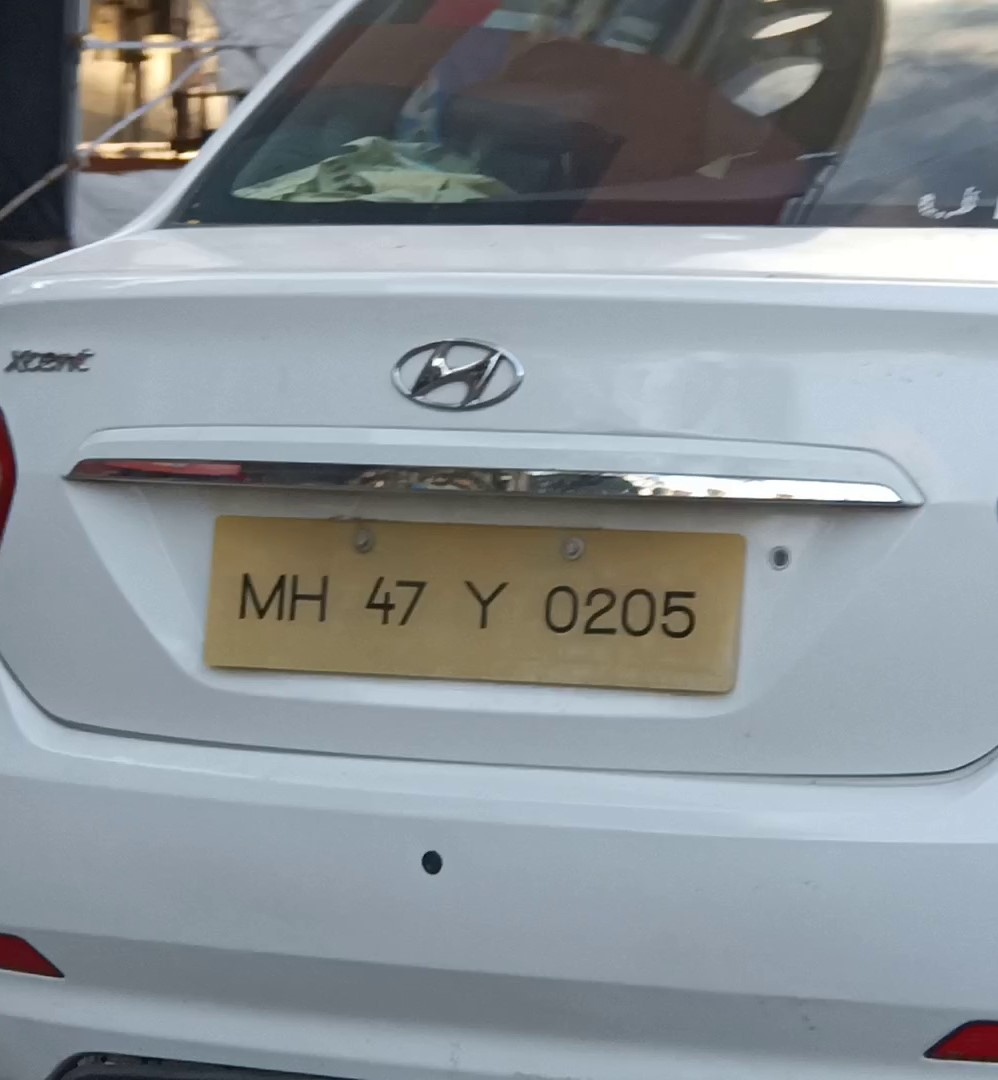MH47Y0205: (207, 519, 747, 695)
